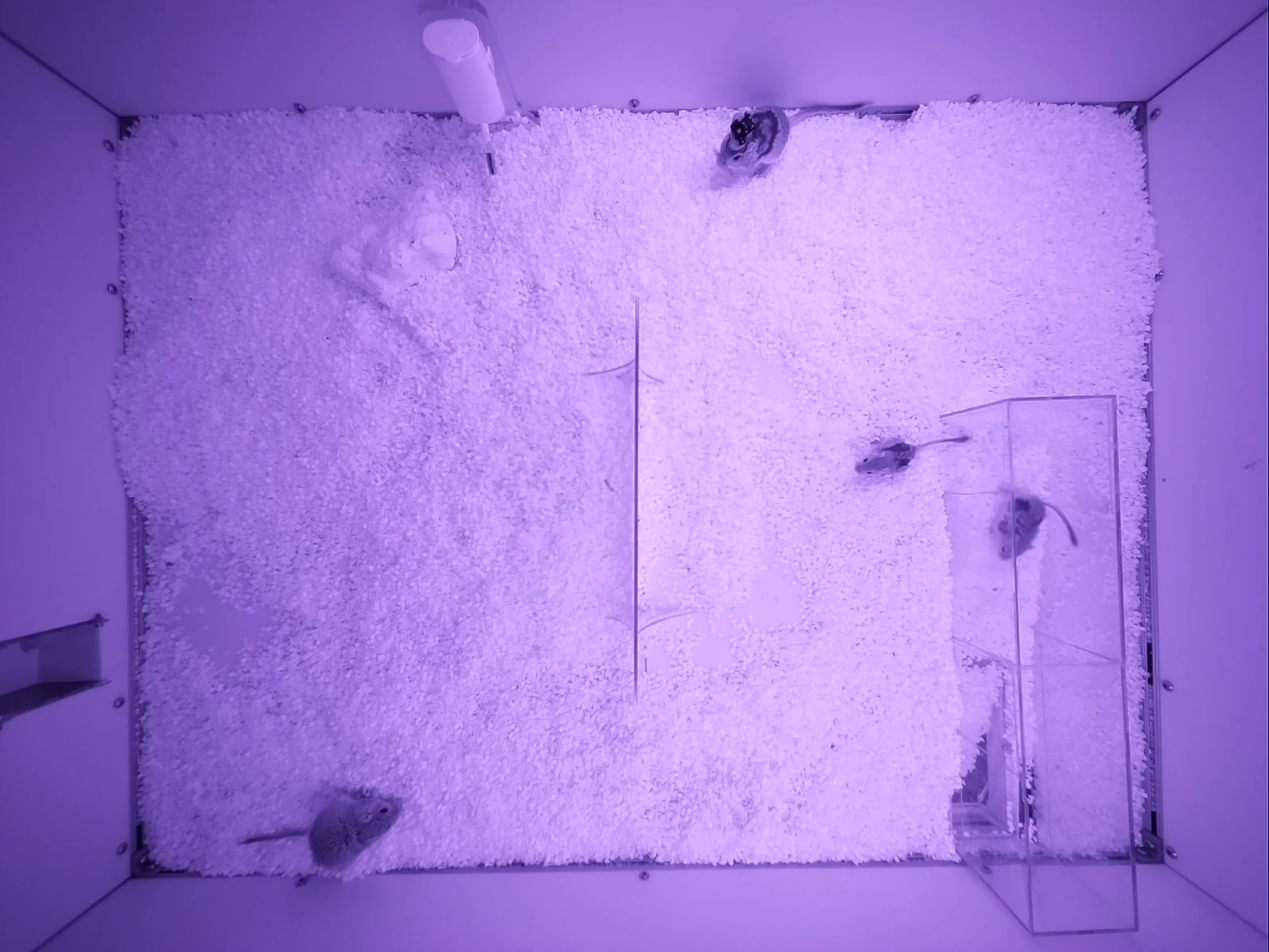adult_back: (243, 789, 400, 869), (717, 102, 866, 182), (993, 495, 1078, 559), (855, 436, 969, 474)
